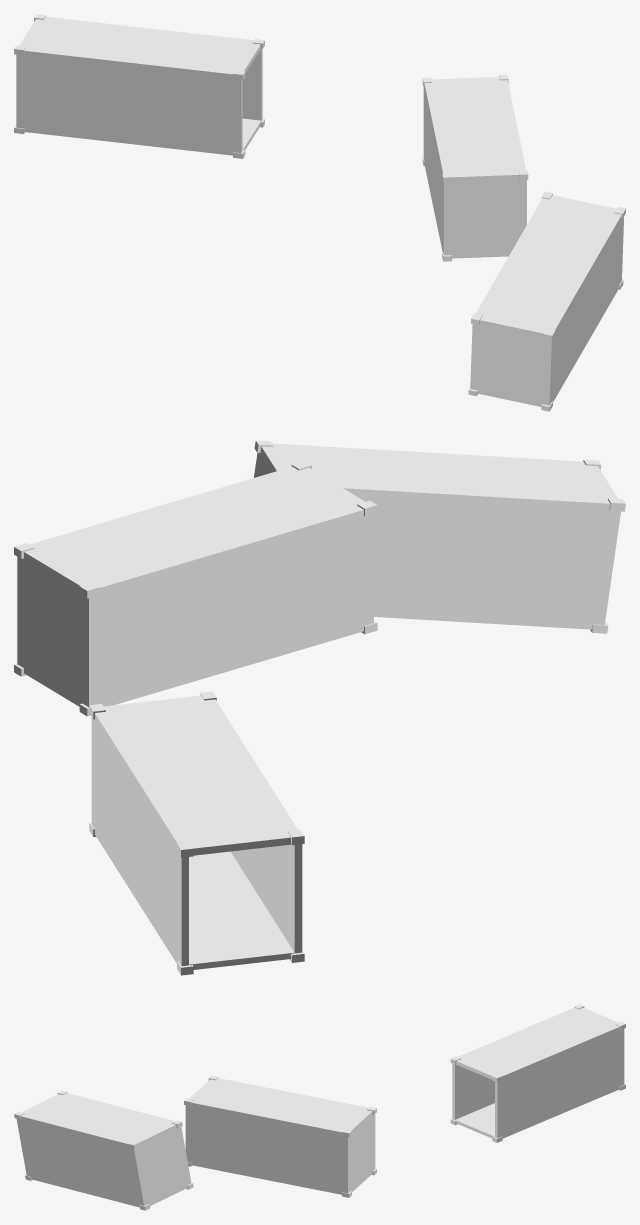
File: Container2_Closed0.fbx
3 views of the same model, one above another, from view 1: azimuth 30°, elevation 25°; view 2: azimuth 150°, elevation 25°; view 3: azimuth 270°, elevation 25° (orthographic). The views are drawn at different scales.
Parts seen in each view (by area): view 1: Container2_Closed0; view 2: Container2_Closed0; view 3: Container2_Closed0.
Part boxes in pixels (box(x1,y1,x2,y2)): Container2_Closed0: box(14, 14, 625, 411); Container2_Closed0: box(14, 440, 625, 975); Container2_Closed0: box(14, 1004, 625, 1210).
Bounding box in the file's own units: 1144 × 2290 × 452.
